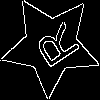R: (26, 20, 82, 76)
